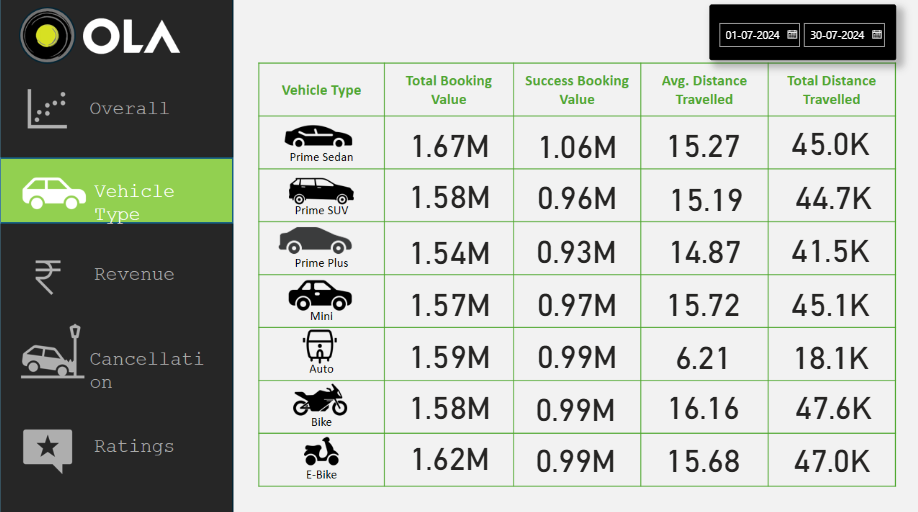

The dashboard page shown, as its layout file describes it:
{"tool":"powerbi","page":{"name":"Vehicle Type","canvas":[1280,720],"ordinal":1},"visuals":[{"type":"actionButton","box":[0,219.3,324.6,93],"z":0},{"type":"actionButton","box":[0,336.8,324.6,93],"z":1000},{"type":"actionButton","box":[0,456.1,324.6,93],"z":2000},{"type":"actionButton","box":[0,575.4,324.6,93],"z":3000},{"type":"actionButton","box":[0,110.5,324.6,89.5],"z":4000},{"type":"card","fields":{"Values":["Sum(July (2).Booking_Value)"]},"box":[535,163.3,176.7,70],"z":5000},{"type":"card","fields":{"Values":["Sum(July (2).Booking_Value)"]},"box":[535,233.3,176.7,70],"z":6000},{"type":"card","fields":{"Values":["Sum(July (2).Booking_Value)"]},"box":[535.7,310.7,176.8,71.4],"z":7000},{"type":"card","fields":{"Values":["Sum(July (2).Booking_Value)"]},"box":[535,383.3,176.7,70],"z":8000},{"type":"card","fields":{"Values":["Sum(July (2).Booking_Value)"]},"box":[535,456.7,176.7,70],"z":9000},{"type":"card","fields":{"Values":["Sum(July (2).Booking_Value)"]},"box":[535,526.7,176.7,70],"z":10000},{"type":"card","fields":{"Values":["Sum(July (2).Booking_Value)"]},"box":[535,598.3,176.7,70],"z":11000},{"type":"card","fields":{"Values":["Sum(July (2).Booking_Value)"]},"box":[711.7,165,176.7,70],"z":12000},{"type":"card","fields":{"Values":["Sum(July (2).Booking_Value)"]},"box":[711.7,235,176.7,70],"z":13000},{"type":"card","fields":{"Values":["Sum(July (2).Booking_Value)"]},"box":[712.5,310.7,175,69.6],"z":14000},{"type":"card","fields":{"Values":["Sum(July (2).Booking_Value)"]},"box":[711.7,383.3,176.7,70],"z":15000},{"type":"card","fields":{"Values":["Sum(July (2).Booking_Value)"]},"box":[711.7,456.7,176.7,70],"z":16000},{"type":"card","fields":{"Values":["Sum(July (2).Booking_Value)"]},"box":[710,528.3,176.7,70],"z":17000},{"type":"card","fields":{"Values":["Sum(July (2).Booking_Value)"]},"box":[710,600,176.7,70],"z":18000},{"type":"card","fields":{"Values":["Avg(July (2).Ride_Distance)"]},"box":[887.5,162.5,176.8,69.6],"z":19000},{"type":"card","fields":{"Values":["Avg(July (2).Ride_Distance)"]},"box":[891.1,237.5,176.8,69.6],"z":20000},{"type":"card","fields":{"Values":["Avg(July (2).Ride_Distance)"]},"box":[889.3,310.7,176.8,69.6],"z":21000},{"type":"card","fields":{"Values":["Avg(July (2).Ride_Distance)"]},"box":[887.5,383.9,176.8,69.6],"z":22000},{"type":"card","fields":{"Values":["Avg(July (2).Ride_Distance)"]},"box":[887.5,457.1,176.8,71.4],"z":23000},{"type":"card","fields":{"Values":["Avg(July (2).Ride_Distance)"]},"box":[887.5,526.8,176.8,69.6],"z":24000},{"type":"card","fields":{"Values":["Avg(July (2).Ride_Distance)"]},"box":[887.5,600,176.8,69.6],"z":25000},{"type":"card","fields":{"Values":["Sum(July (2).Ride_Distance)"]},"box":[1064.3,160.7,176.8,69.6],"z":26000},{"type":"card","fields":{"Values":["Sum(July (2).Ride_Distance)"]},"box":[1067.9,235.7,176.8,69.6],"z":27000},{"type":"card","fields":{"Values":["Sum(July (2).Ride_Distance)"]},"box":[1064.3,308.9,176.8,69.6],"z":28000},{"type":"card","fields":{"Values":["Sum(July (2).Ride_Distance)"]},"box":[1064.3,383.9,176.8,69.6],"z":29000},{"type":"card","fields":{"Values":["Sum(July (2).Ride_Distance)"]},"box":[1064.3,457.1,176.8,71.4],"z":30000},{"type":"card","fields":{"Values":["Sum(July (2).Ride_Distance)"]},"box":[1069.6,526.8,176.8,69.6],"z":31000},{"type":"card","fields":{"Values":["Sum(July (2).Ride_Distance)"]},"box":[1066.1,600,176.8,69.6],"z":32000},{"type":"slicer","fields":{"Values":["July (2).Date"]},"box":[986,5.3,259.6,77.2],"z":32001}]}

Visuals, with their boxes on the page's 1280x720 design canvas (x1, y1, x2, y2). These are canvas units, not pixel positions in the 918x512 screenshot, which may show the page scaled, cropped or inside an application window:
actionButton: pyautogui.locateOnScreen(0, 219, 325, 312)
actionButton: pyautogui.locateOnScreen(0, 337, 325, 430)
actionButton: pyautogui.locateOnScreen(0, 456, 325, 549)
actionButton: pyautogui.locateOnScreen(0, 575, 325, 668)
actionButton: pyautogui.locateOnScreen(0, 110, 325, 200)
card - Sum(July (2).Booking_Value): pyautogui.locateOnScreen(535, 163, 712, 233)
card - Sum(July (2).Booking_Value): pyautogui.locateOnScreen(535, 233, 712, 303)
card - Sum(July (2).Booking_Value): pyautogui.locateOnScreen(536, 311, 712, 382)
card - Sum(July (2).Booking_Value): pyautogui.locateOnScreen(535, 383, 712, 453)
card - Sum(July (2).Booking_Value): pyautogui.locateOnScreen(535, 457, 712, 527)
card - Sum(July (2).Booking_Value): pyautogui.locateOnScreen(535, 527, 712, 597)
card - Sum(July (2).Booking_Value): pyautogui.locateOnScreen(535, 598, 712, 668)
card - Sum(July (2).Booking_Value): pyautogui.locateOnScreen(712, 165, 888, 235)
card - Sum(July (2).Booking_Value): pyautogui.locateOnScreen(712, 235, 888, 305)
card - Sum(July (2).Booking_Value): pyautogui.locateOnScreen(712, 311, 888, 380)
card - Sum(July (2).Booking_Value): pyautogui.locateOnScreen(712, 383, 888, 453)
card - Sum(July (2).Booking_Value): pyautogui.locateOnScreen(712, 457, 888, 527)
card - Sum(July (2).Booking_Value): pyautogui.locateOnScreen(710, 528, 887, 598)
card - Sum(July (2).Booking_Value): pyautogui.locateOnScreen(710, 600, 887, 670)
card - Avg(July (2).Ride_Distance): pyautogui.locateOnScreen(888, 162, 1064, 232)
card - Avg(July (2).Ride_Distance): pyautogui.locateOnScreen(891, 238, 1068, 307)
card - Avg(July (2).Ride_Distance): pyautogui.locateOnScreen(889, 311, 1066, 380)
card - Avg(July (2).Ride_Distance): pyautogui.locateOnScreen(888, 384, 1064, 454)
card - Avg(July (2).Ride_Distance): pyautogui.locateOnScreen(888, 457, 1064, 528)
card - Avg(July (2).Ride_Distance): pyautogui.locateOnScreen(888, 527, 1064, 596)
card - Avg(July (2).Ride_Distance): pyautogui.locateOnScreen(888, 600, 1064, 670)
card - Sum(July (2).Ride_Distance): pyautogui.locateOnScreen(1064, 161, 1241, 230)
card - Sum(July (2).Ride_Distance): pyautogui.locateOnScreen(1068, 236, 1245, 305)
card - Sum(July (2).Ride_Distance): pyautogui.locateOnScreen(1064, 309, 1241, 378)
card - Sum(July (2).Ride_Distance): pyautogui.locateOnScreen(1064, 384, 1241, 454)
card - Sum(July (2).Ride_Distance): pyautogui.locateOnScreen(1064, 457, 1241, 528)
card - Sum(July (2).Ride_Distance): pyautogui.locateOnScreen(1070, 527, 1246, 596)
card - Sum(July (2).Ride_Distance): pyautogui.locateOnScreen(1066, 600, 1243, 670)
slicer - July (2).Date: pyautogui.locateOnScreen(986, 5, 1246, 82)
